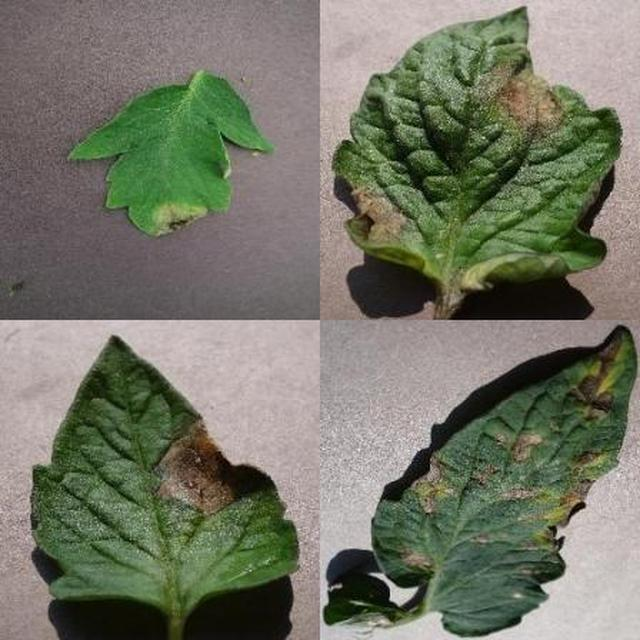Late Blight Leaf: (241, 212, 640, 640)
